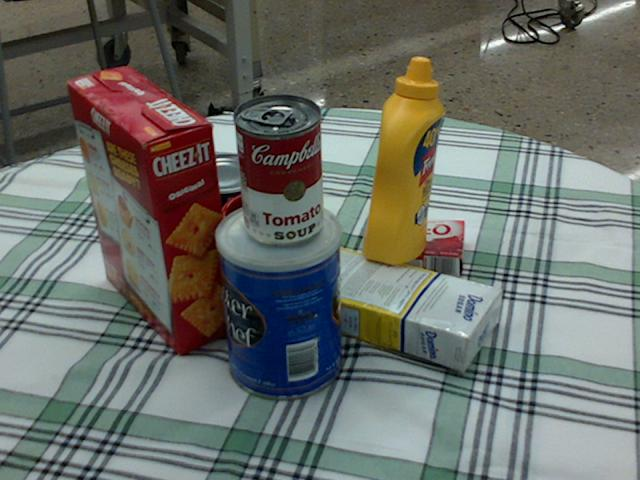cracker_box: (66, 68, 236, 352)
gelatin_box: (373, 215, 464, 279)
master_chef_can: (214, 199, 343, 399)
mug: (213, 188, 312, 299)
mustard_bottle: (363, 57, 443, 264)
potted_meat_can: (155, 174, 273, 264)
sugar_box: (292, 245, 503, 368)
tomato_soup_can: (231, 93, 322, 244)
tuna_fish_can: (181, 153, 264, 220)
